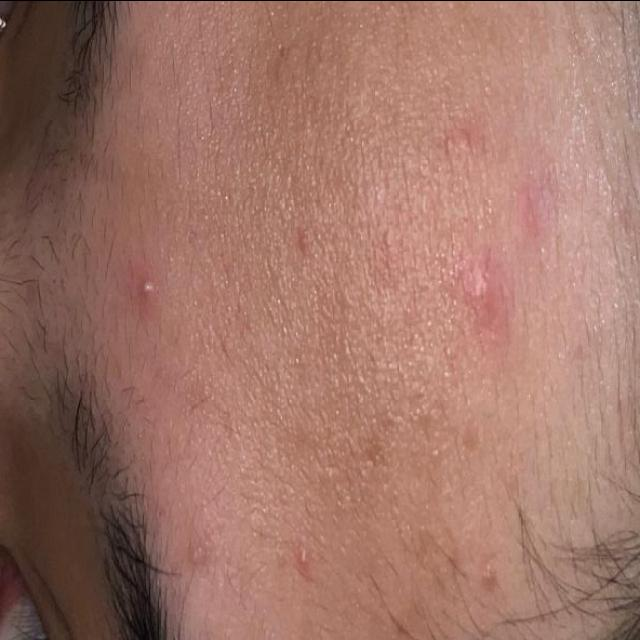papule: (426, 73, 592, 417)
pustule: (125, 245, 163, 309), (283, 529, 326, 575)
